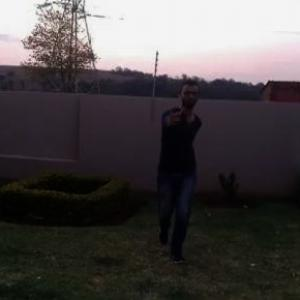takeoff-hand: (164, 96, 188, 132)
